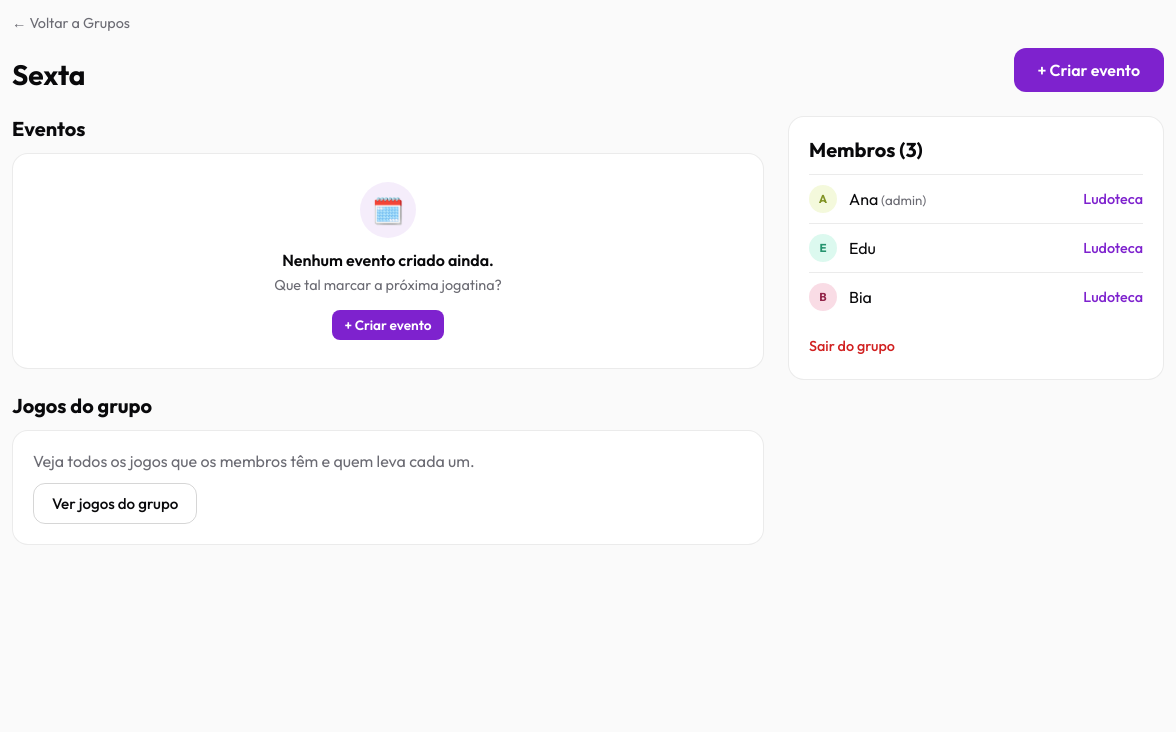
Scenario: Grupo — jogos do grupo › a busca acha pelo jogo e também por quem o tem
Check: the heading "Sexta" is shown, box [12,58,85,92]
Click the button "Ver jogos do grupo": (115, 504) [33,483,197,524]
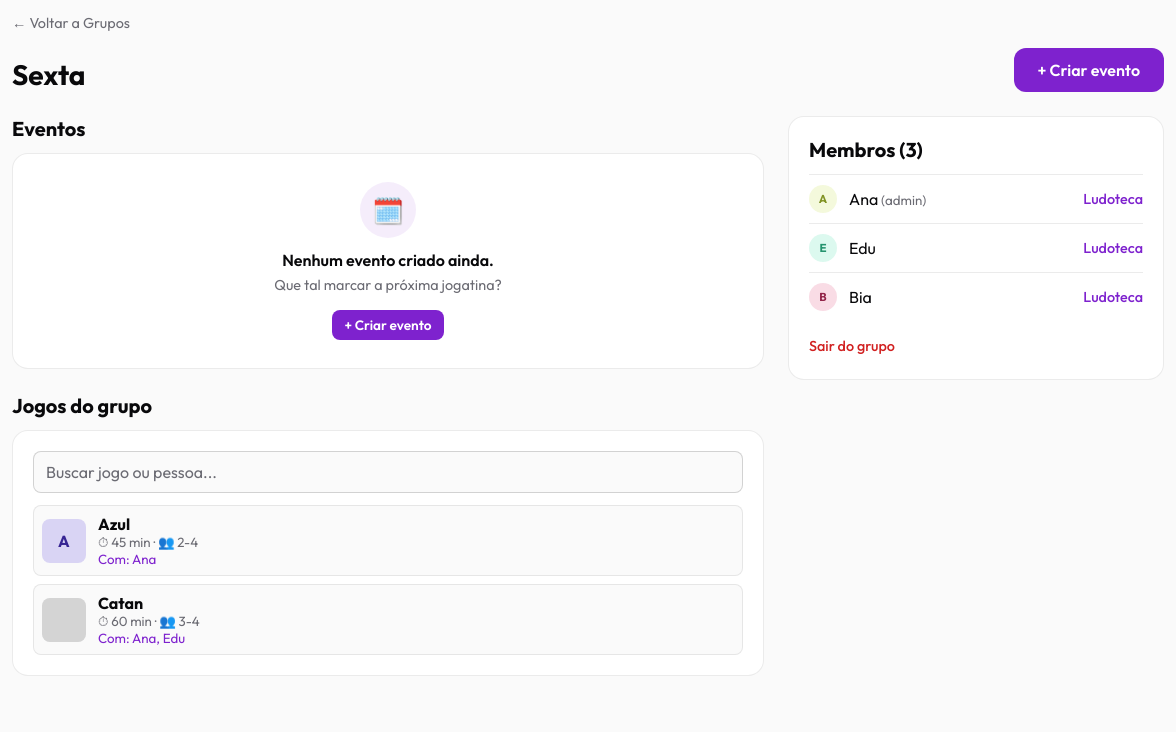
Check: the text "Catan" is shown, box [98,593,143,613]
In the search field with placeholder "Buscar jogo ou pessoa...": (388, 472) [33,451,743,493], type "edu"
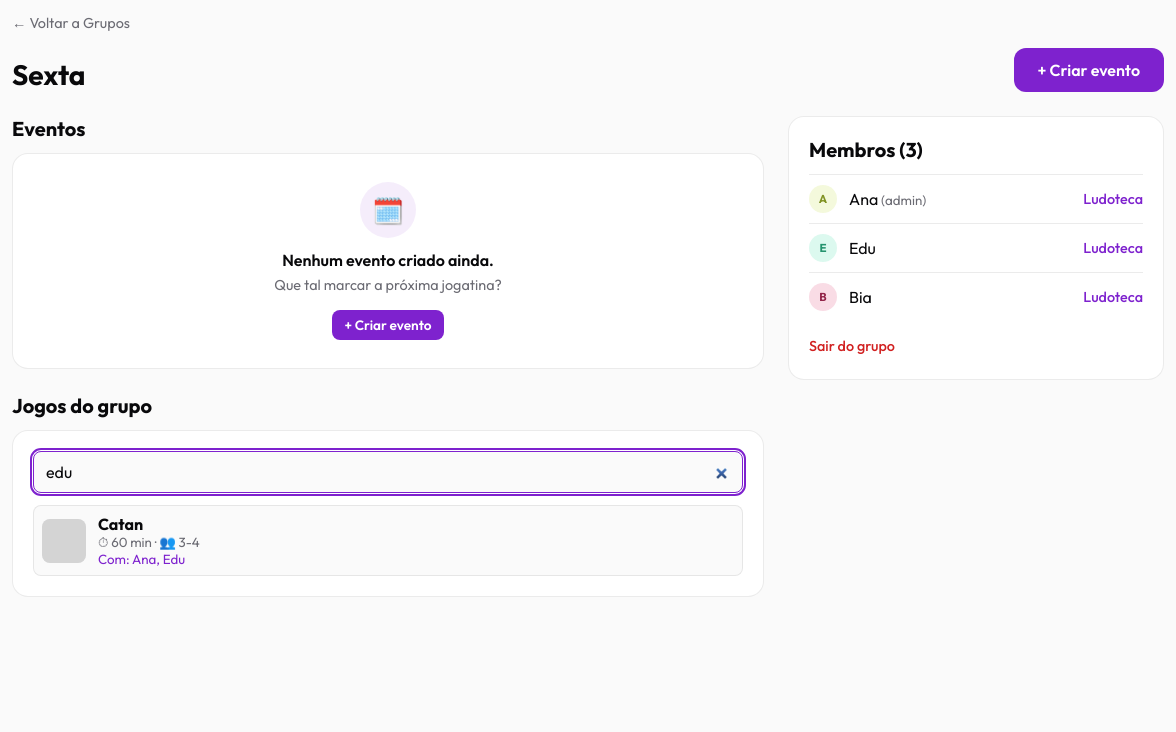
Check: the text "Catan" is shown, box [98,514,143,534]
Check: the text "Azul" is gone
Replace the text in the search field named "Buscar nos jogos do grupo" with "zzz": (388, 472) [33,451,743,493]
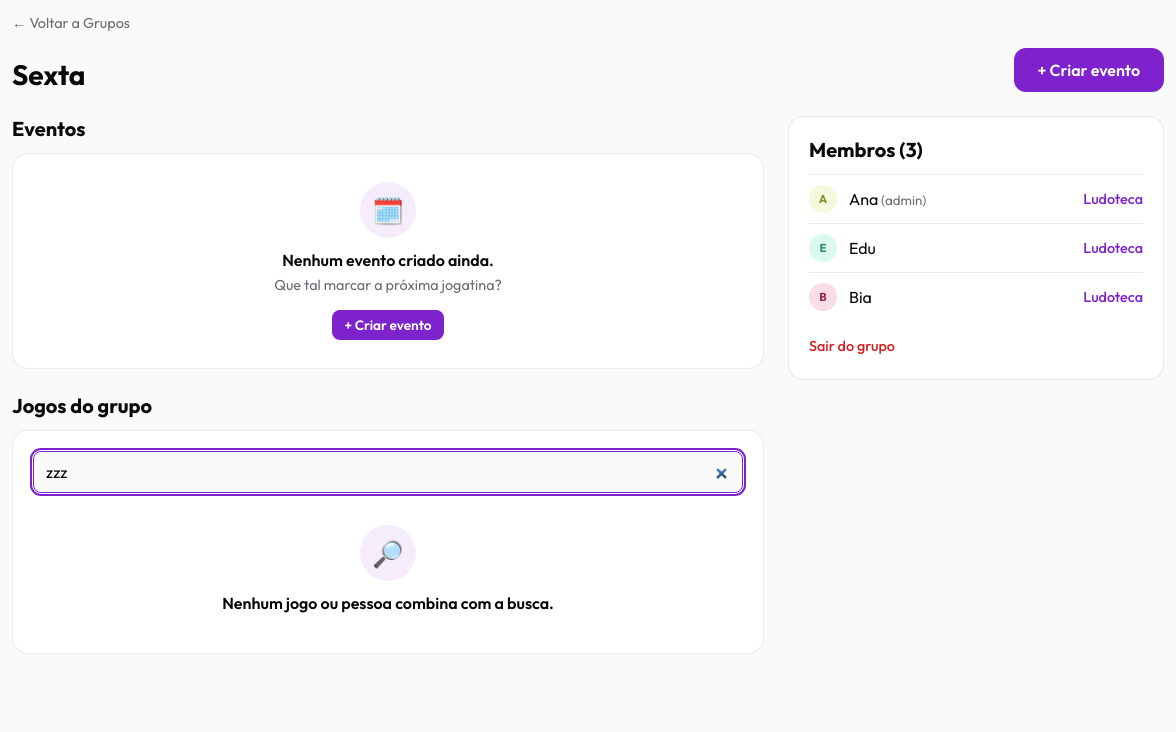
Check: the text "Nenhum jogo ou pessoa combina com a busca." is shown, box [222,593,554,613]
